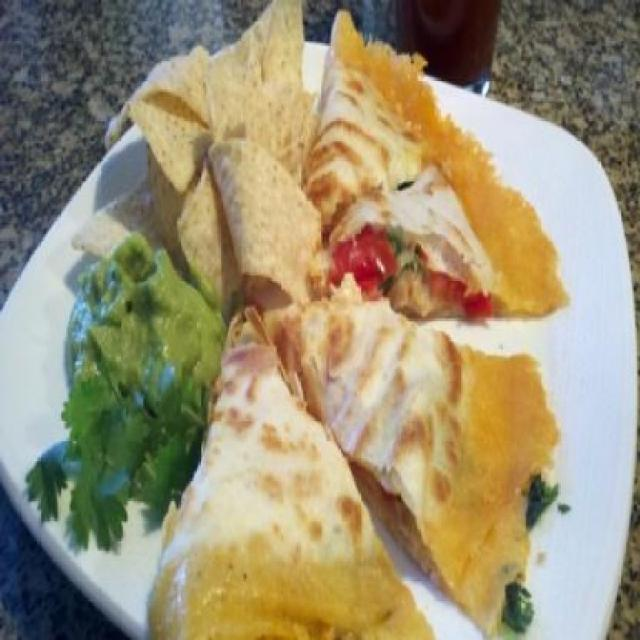chicken quesadilla: (312, 12, 550, 633), (172, 304, 400, 638)
guacamole: (58, 244, 225, 425)
